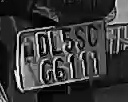1: (66, 54, 81, 79), (77, 51, 89, 78), (90, 49, 101, 75)
5: (61, 28, 73, 53)
6: (52, 59, 69, 83)
C: (87, 24, 99, 47)
D: (36, 33, 50, 57)
G: (40, 58, 53, 83)
L: (48, 33, 63, 55)
S: (75, 27, 87, 50)
